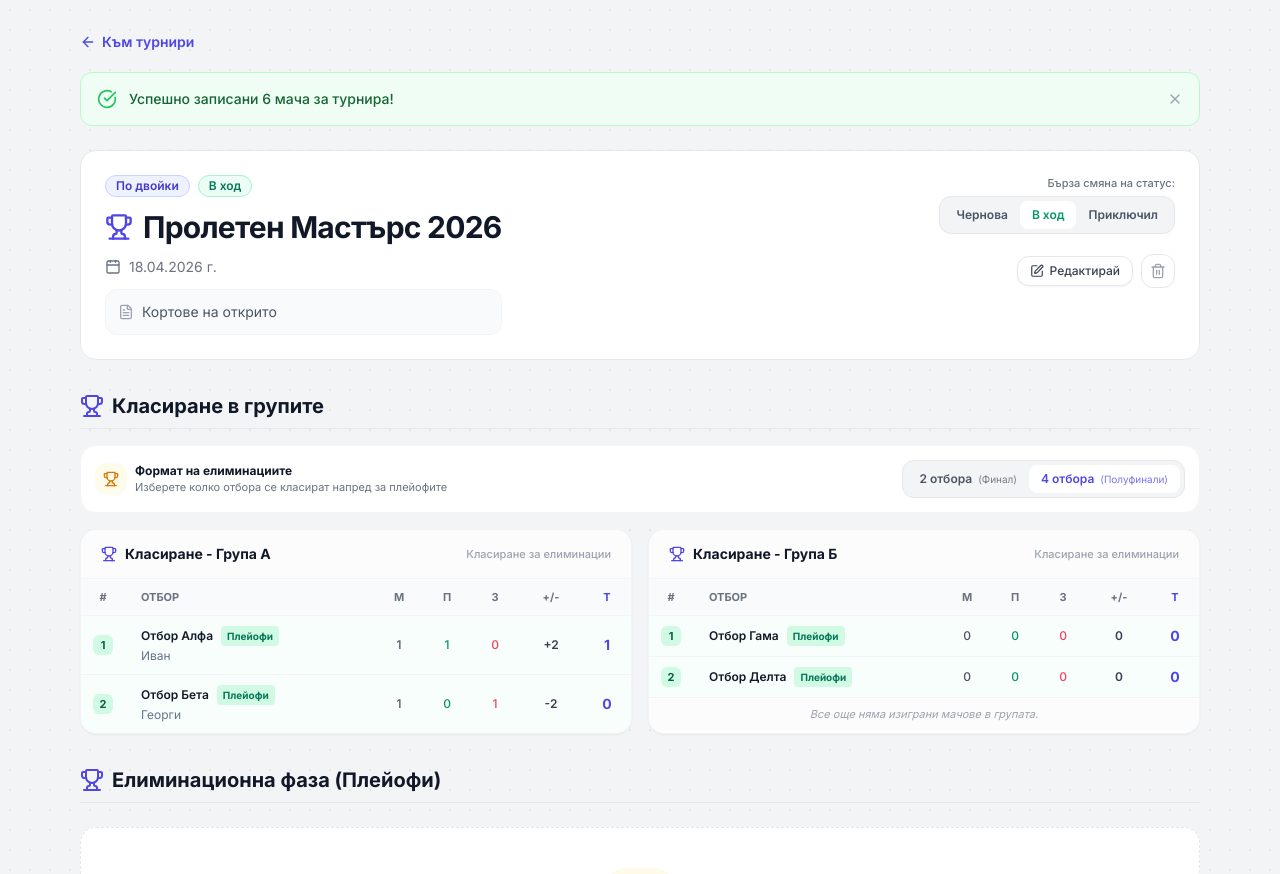
TournamentDetailPage Integration Tests › renders Bulgarian success banner when navigating from bulk create with state
The image size is (1280, 874).
Check: the text "Успешно записани 6 мача за турнира!" is shown, box [129, 90, 394, 107]
Note: Dismiss alert
Click the button named "close" at (1175, 99), box [1167, 91, 1183, 107]
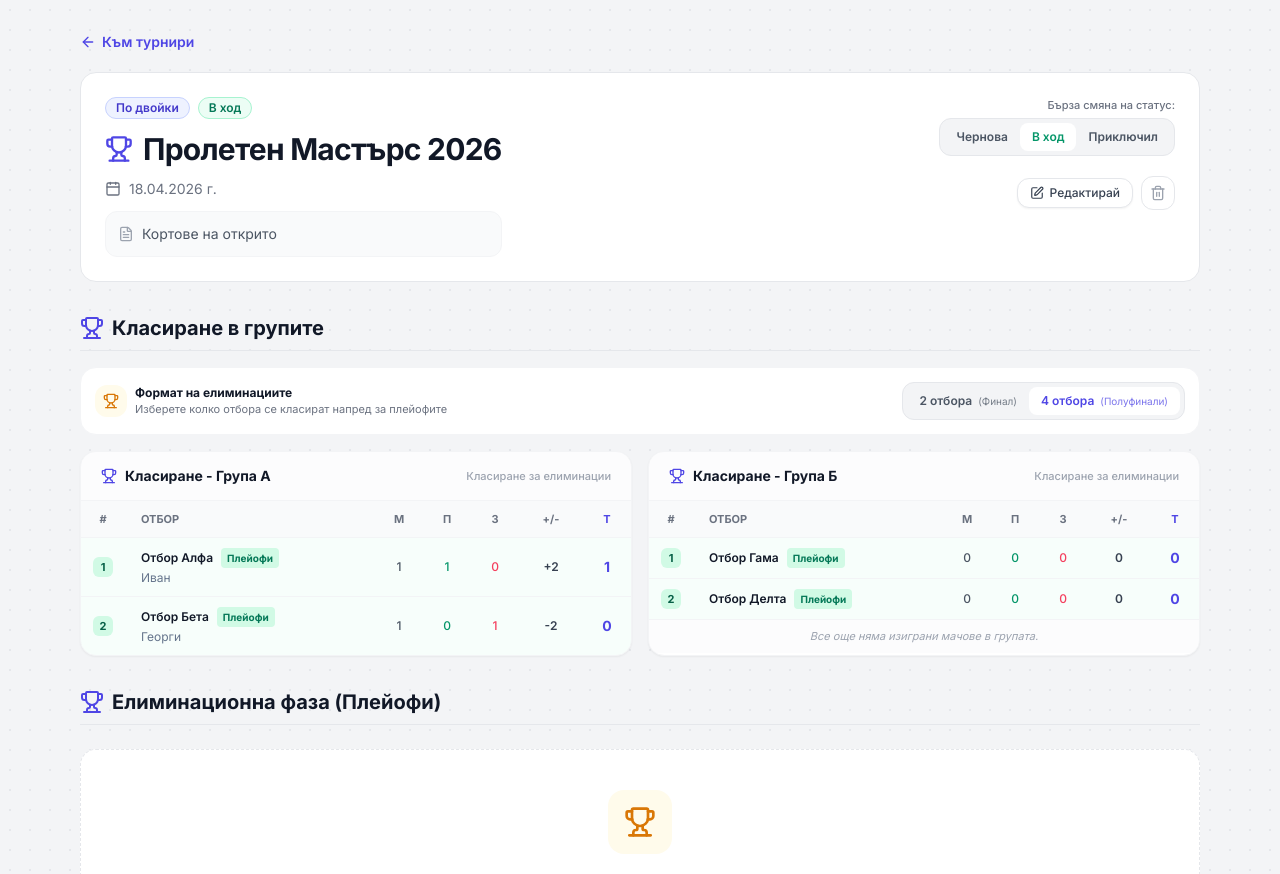
Check: the text "Успешно записани 6 мача за турнира!" is gone
